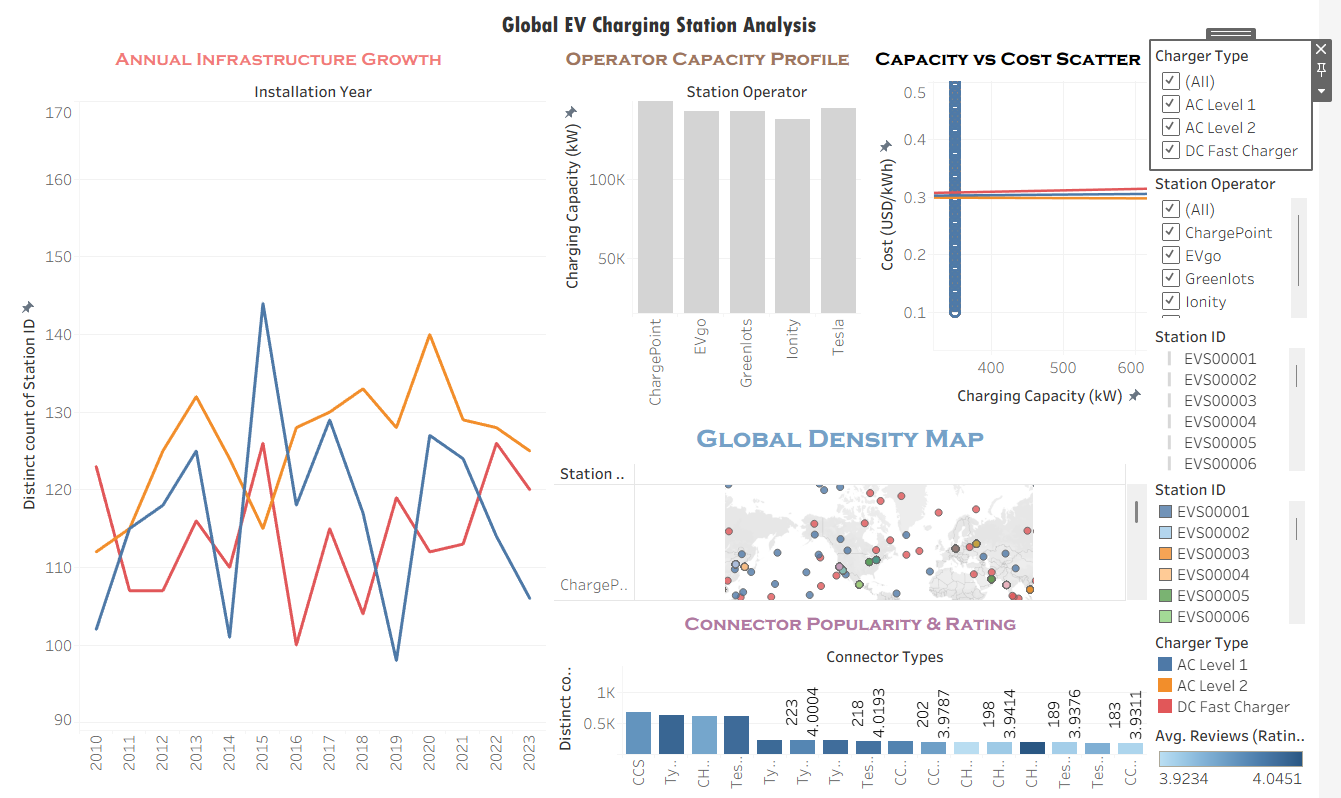

The dashboard page shown, as its layout file describes it:
{"tool":"tableau","page":{"name":"Dashboard 1","canvas":[1000,1000],"units":"permille","ordinal":0},"visuals":[{"type":"title","box":[6.1,10,987.9,41.1]},{"type":"worksheet","title":"Annual Infrastructure Growth","mark":"Line","rows":["Station ID"],"cols":["Installation Year"],"box":[6.1,51.1,411.4,938.9]},{"type":"worksheet","title":"Operator Capacity Profile","mark":"Automatic","rows":["Charging Capacity (kW)"],"cols":["Station Operator"],"box":[417.4,51.1,238.6,469.4]},{"type":"worksheet","title":"Capacity vs Cost Scatter","mark":"Automatic","rows":["Cost (USD/kWh)"],"cols":["Charging Capacity (kW)"],"box":[656,51.1,216.7,469.4]},{"type":"filter","title":"Global Density Map","param":"[federated.09yl6f41wjhxan189wchp0zresfk].[none:Charger Type:nk]","box":[872.7,51.1,121.2,159.6]},{"type":"filter","title":"Global Density Map","param":"[federated.09yl6f41wjhxan189wchp0zresfk].[none:Station Operator:nk]","box":[872.7,210.7,121.2,190.8]},{"type":"legend","title":"Global Density Map","param":"[federated.09yl6f41wjhxan189wchp0zresfk].[none:Station ID:nk]","box":[872.7,401.5,121.2,190.8]},{"type":"worksheet","title":"Global Density Map","mark":"Multipolygon","rows":["Station Operator","Latitude"],"cols":["Longitude"],"box":[417.4,520.5,455.3,234.7]},{"type":"legend","title":"Global Density Map","param":"[federated.09yl6f41wjhxan189wchp0zresfk].[none:Station ID:nk]","box":[872.7,592.3,121.2,190.8]},{"type":"worksheet","title":"Connector Popularity & Rating","mark":"Bar","rows":["Station ID"],"cols":["Connector Types"],"box":[417.4,755.3,455.3,234.8]},{"type":"legend","title":"Annual Infrastructure Growth","param":"[federated.09yl6f41wjhxan189wchp0zresfk].[none:Charger Type:nk]","box":[872.7,783,121.2,116]},{"type":"legend","title":"Connector Popularity & Rating","param":"[federated.09yl6f41wjhxan189wchp0zresfk].[avg:Reviews (Rating):qk]","box":[872.7,899,121.2,91]}]}

Visuals, with their boxes on the dashboard's canvas, which has no fixed pixel size, in thousandths of its width and height (x1, y1, x2, y2). These are canvas units, not pixel positions in the 1341x798 screenshot, which may show the page scaled, cropped or inside an application window:
title: Rect(6, 10, 994, 51)
"Annual Infrastructure Growth" worksheet (Line marks): Rect(6, 51, 418, 990)
"Operator Capacity Profile" worksheet: Rect(417, 51, 656, 520)
"Capacity vs Cost Scatter" worksheet: Rect(656, 51, 873, 520)
"Global Density Map" filter: Rect(873, 51, 994, 211)
"Global Density Map" filter: Rect(873, 211, 994, 402)
"Global Density Map" legend: Rect(873, 402, 994, 592)
"Global Density Map" worksheet (Multipolygon marks): Rect(417, 520, 873, 755)
"Global Density Map" legend: Rect(873, 592, 994, 783)
"Connector Popularity & Rating" worksheet (Bar marks): Rect(417, 755, 873, 990)
"Annual Infrastructure Growth" legend: Rect(873, 783, 994, 899)
"Connector Popularity & Rating" legend: Rect(873, 899, 994, 990)
